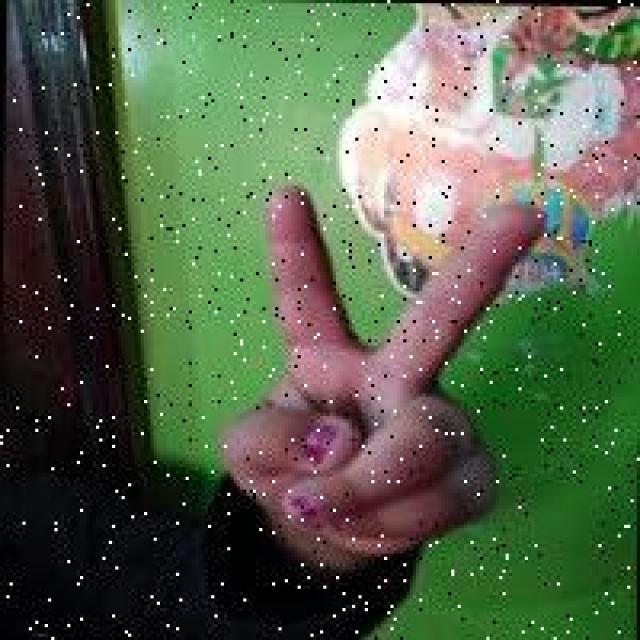V: (213, 182, 555, 589)
